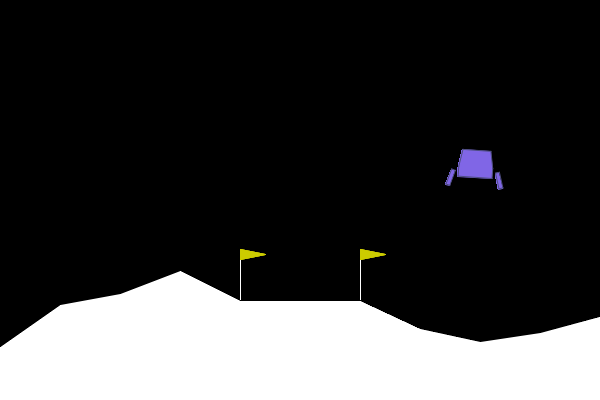lander: (444, 147, 507, 191)
